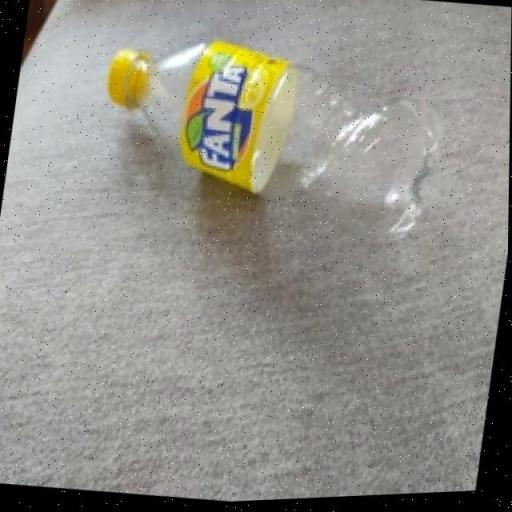plastic: (88, 15, 458, 261)
